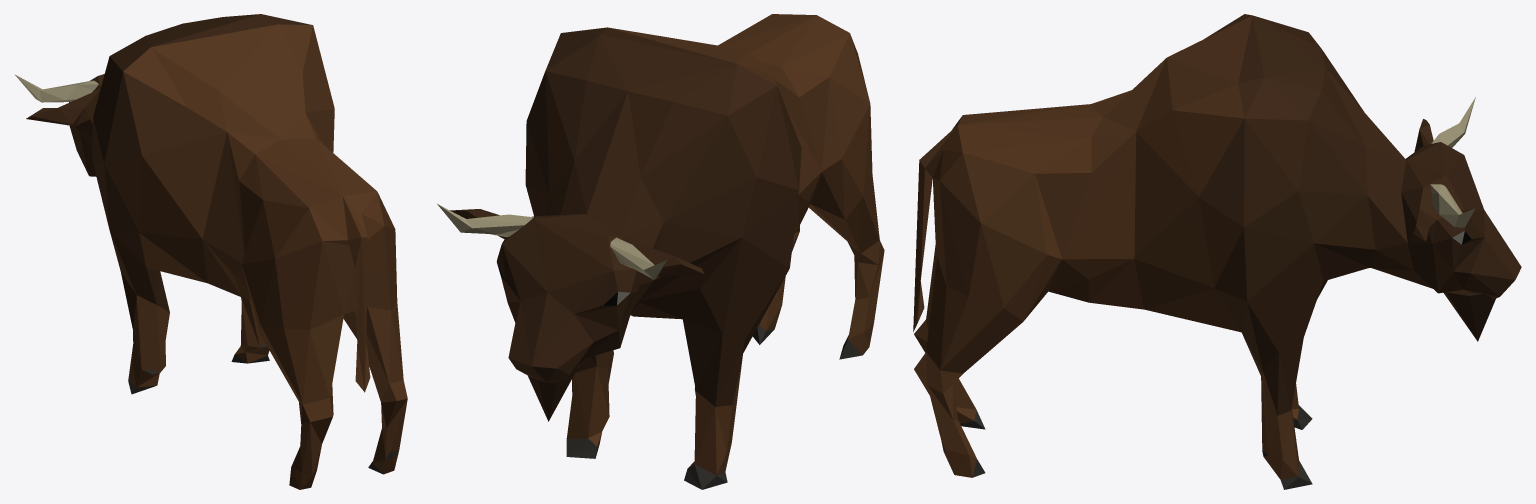
Rendered from bison.glb.
3 renders of one model, left to right at view 1: azimuth 30°, elevation 25°; view 2: azimuth 150°, elevation 25°; view 3: azimuth 270°, elevation 25°, orthographic. The views are drawn at different scales.
Visible parts, largest first — view 1: bison; view 2: bison; view 3: bison.
Boxes of the visible parts, box(x1,y1,x2,y2) form: bison: box(15, 14, 407, 489); bison: box(437, 14, 884, 489); bison: box(913, 14, 1521, 489).
Size of the model in its own units: 5.43 by 8.17 by 11.13.
